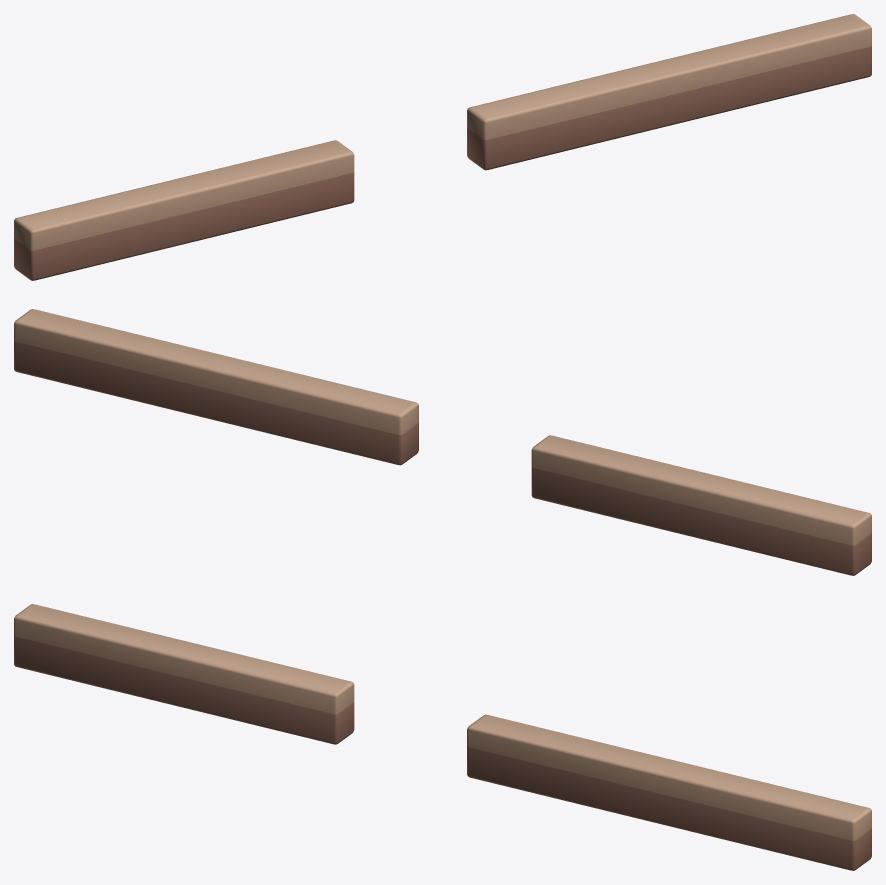
File: Props.fbx
3 renders of one model, top to bottom at view 1: azimuth 30°, elevation 25°; view 2: azimuth 150°, elevation 25°; view 3: azimuth 330°, elevation 25°, orthographic.
Parts seen in each view (by area): view 1: Box20-3_2 (1), Box20-3_2; view 2: Box20-3_2 (1), Box20-3_2; view 3: Box20-3_2 (1), Box20-3_2.
Part boxes in pixels (<box>): Box20-3_2 (1): <box>467,14,871,170</box>; Box20-3_2: <box>14,140,354,280</box>; Box20-3_2 (1): <box>14,309,418,465</box>; Box20-3_2: <box>531,435,871,575</box>; Box20-3_2 (1): <box>467,714,871,870</box>; Box20-3_2: <box>14,604,354,744</box>.
Bounding box in the file's own units: 26 × 1.5 × 1.
Materials: 1 (1 with a texture image).
